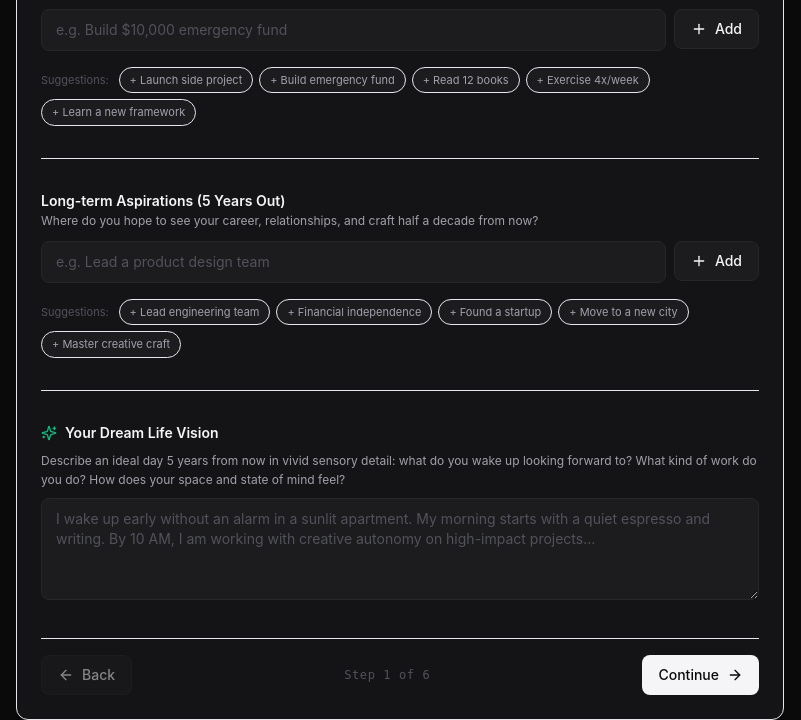
it: OnboardingWizard Component › prevents advancing from step 1 when required fields are missing
(page scrolled)
Click the button with aria-label "continue to next step": click(701, 675) [642,655,759,695]
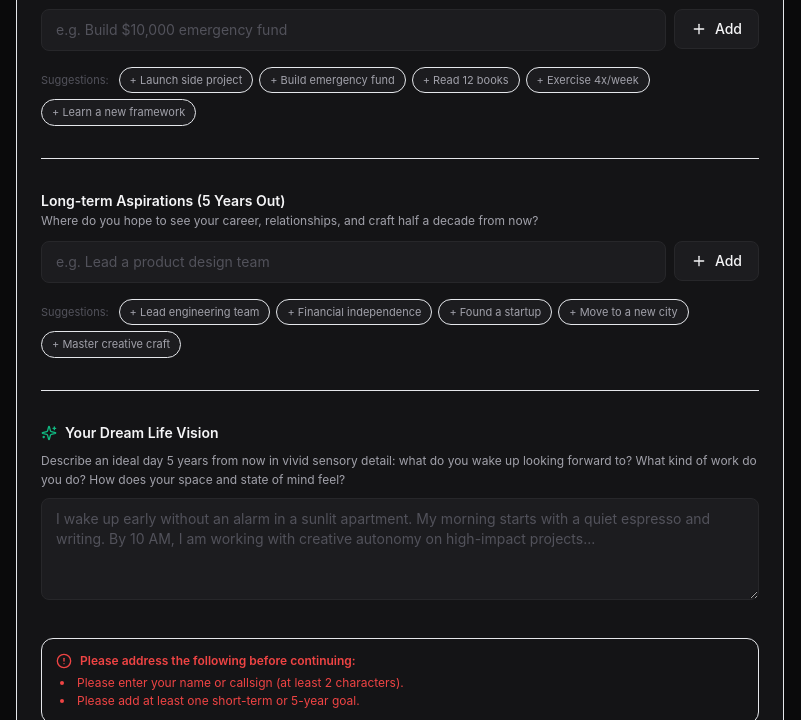
Now the list item "Please enter your name or callsign (at least 2 characters)." is shown, box [77,675,404,690]
